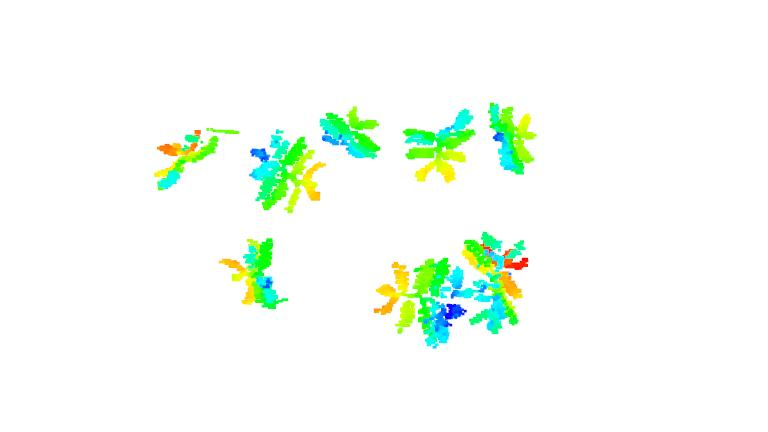chickpea: (371, 253, 465, 349), (465, 231, 534, 332), (401, 104, 481, 188), (249, 127, 322, 215), (220, 234, 285, 314), (150, 129, 222, 196), (484, 95, 539, 178), (318, 101, 383, 164)
